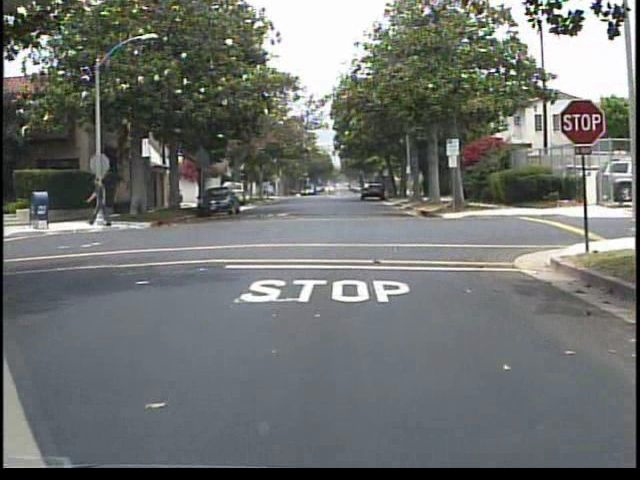person: (86, 171, 115, 234)
